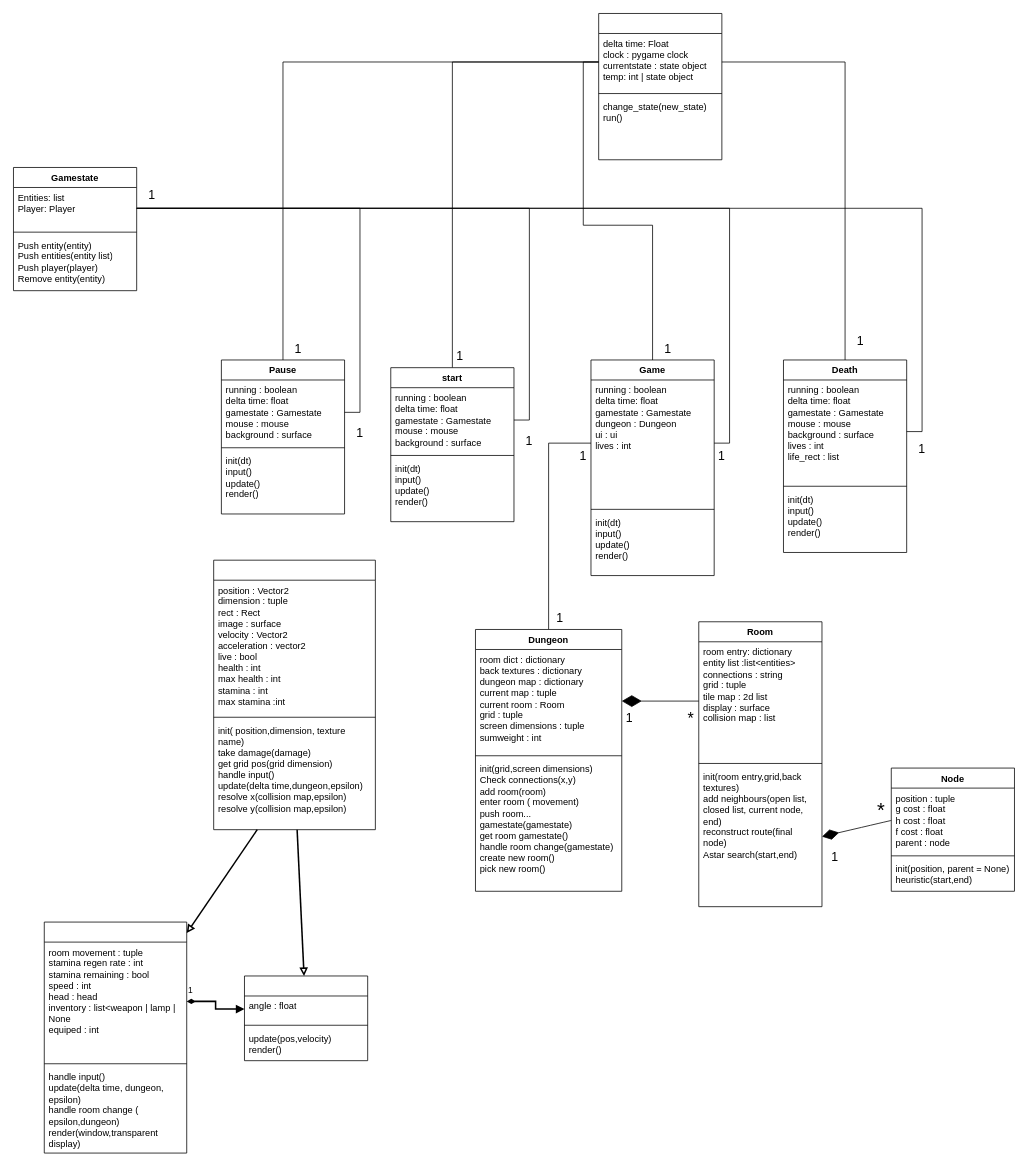
This 1028x1169 diagram has some shape labels left out. Here are the shapes that lost their labels. From the top down, the box of each, then its label:
(598, 13, 722, 160): Main
(213, 559, 375, 830): Entity
(44, 921, 187, 1153): Player
(244, 975, 368, 1061): Head
